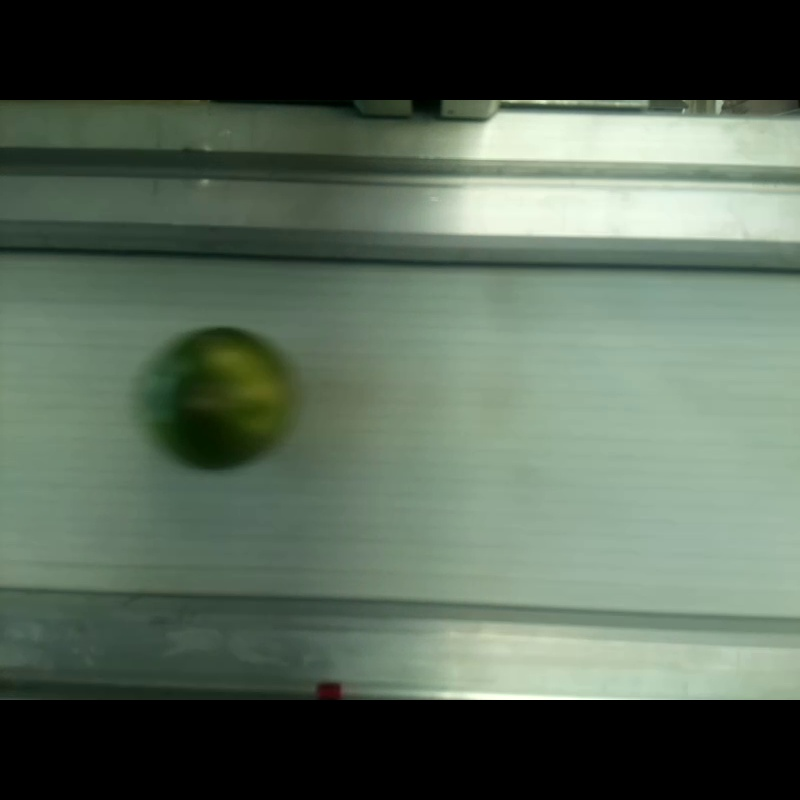lime: (138, 326, 296, 470)
